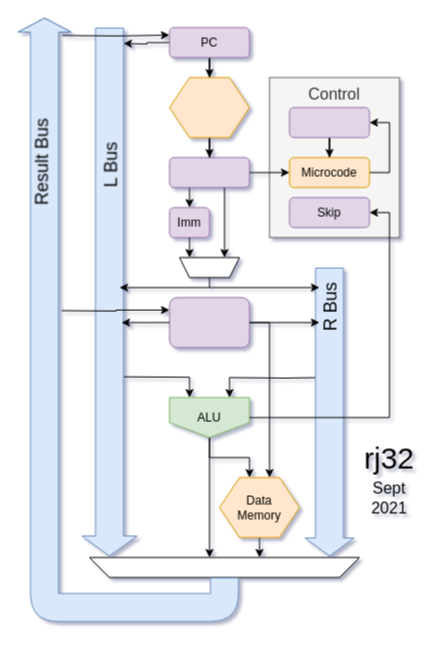
The diagram is 437 pixels wide and 645 high, and some of its shapes have lost their labels. The shapes that lost their labels are listed below. From the top down, each one's centre as x and y in pixels, then its label:
(x=209, y=107): Program Memory
(x=329, y=122): Step
(x=209, y=172): IR
(x=209, y=322): Registers R0-R15
